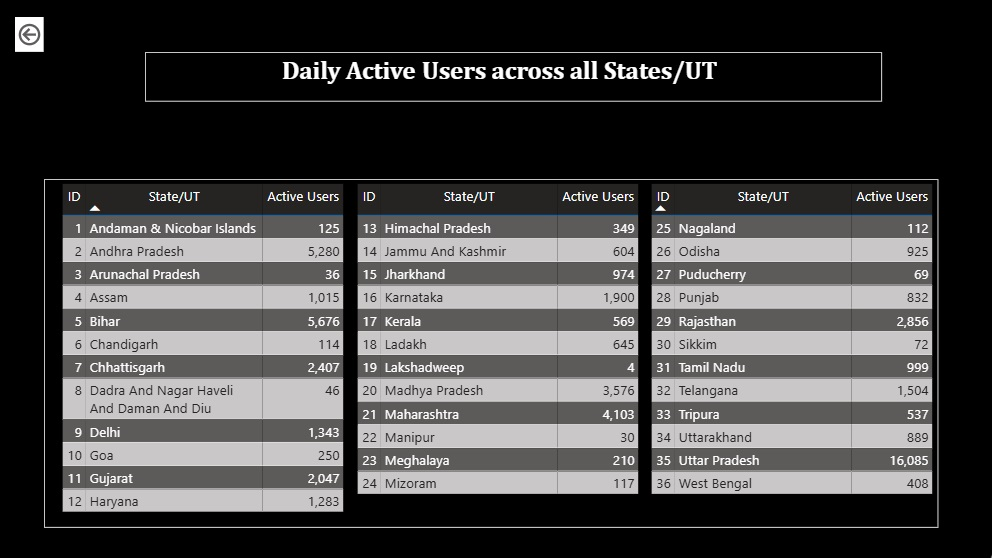

The dashboard page shown, as its layout file describes it:
{"tool":"powerbi","page":{"name":"Detail Users","canvas":[1280,720],"ordinal":2},"visuals":[{"type":"tableEx","fields":{"Values":["Registered_Users_States.ID","Registered_Users_States.State/UT","Sum(Registered_Users_States.Daily Active Users)"]},"box":[74.4,232.2,381,449.5],"z":0},{"type":"tableEx","fields":{"Values":["Registered_Users_States.ID","Registered_Users_States.State/UT","Sum(Registered_Users_States.Daily Active Users)"]},"box":[455.4,232.2,379.5,433.1],"z":1000},{"type":"tableEx","fields":{"Values":["Registered_Users_States.ID","Registered_Users_States.State/UT","Sum(Registered_Users_States.Daily Active Users)"]},"box":[835,232.2,381,433.1],"z":2000},{"type":"textbox","box":[539.4,67.1,580.6,64.5],"z":3000},{"type":"actionButton","box":[19.4,21.9,37.4,45.2],"z":4000},{"type":"textbox","box":[358.7,67,190.5,59.5],"z":5000},{"type":"shape","box":[56.8,231,1153.5,450.3],"z":9001},{"type":"shape","box":[187.5,67,951.1,64],"z":9002}]}

Visuals, with their boxes in screenshot pixels (x1, y1, x2, y2), scaled from the page's 1280x720 canvas onto the 992x558 screenshot:
tableEx - Registered_Users_States.ID x Registered_Users_States.State/UT: <bbox>58, 180, 353, 528</bbox>
tableEx - Registered_Users_States.ID x Registered_Users_States.State/UT: <bbox>353, 180, 647, 516</bbox>
tableEx - Registered_Users_States.ID x Registered_Users_States.State/UT: <bbox>647, 180, 942, 516</bbox>
textbox: <bbox>418, 52, 868, 102</bbox>
actionButton: <bbox>15, 17, 44, 52</bbox>
textbox: <bbox>278, 52, 426, 98</bbox>
shape: <bbox>44, 179, 938, 528</bbox>
shape: <bbox>145, 52, 882, 102</bbox>
